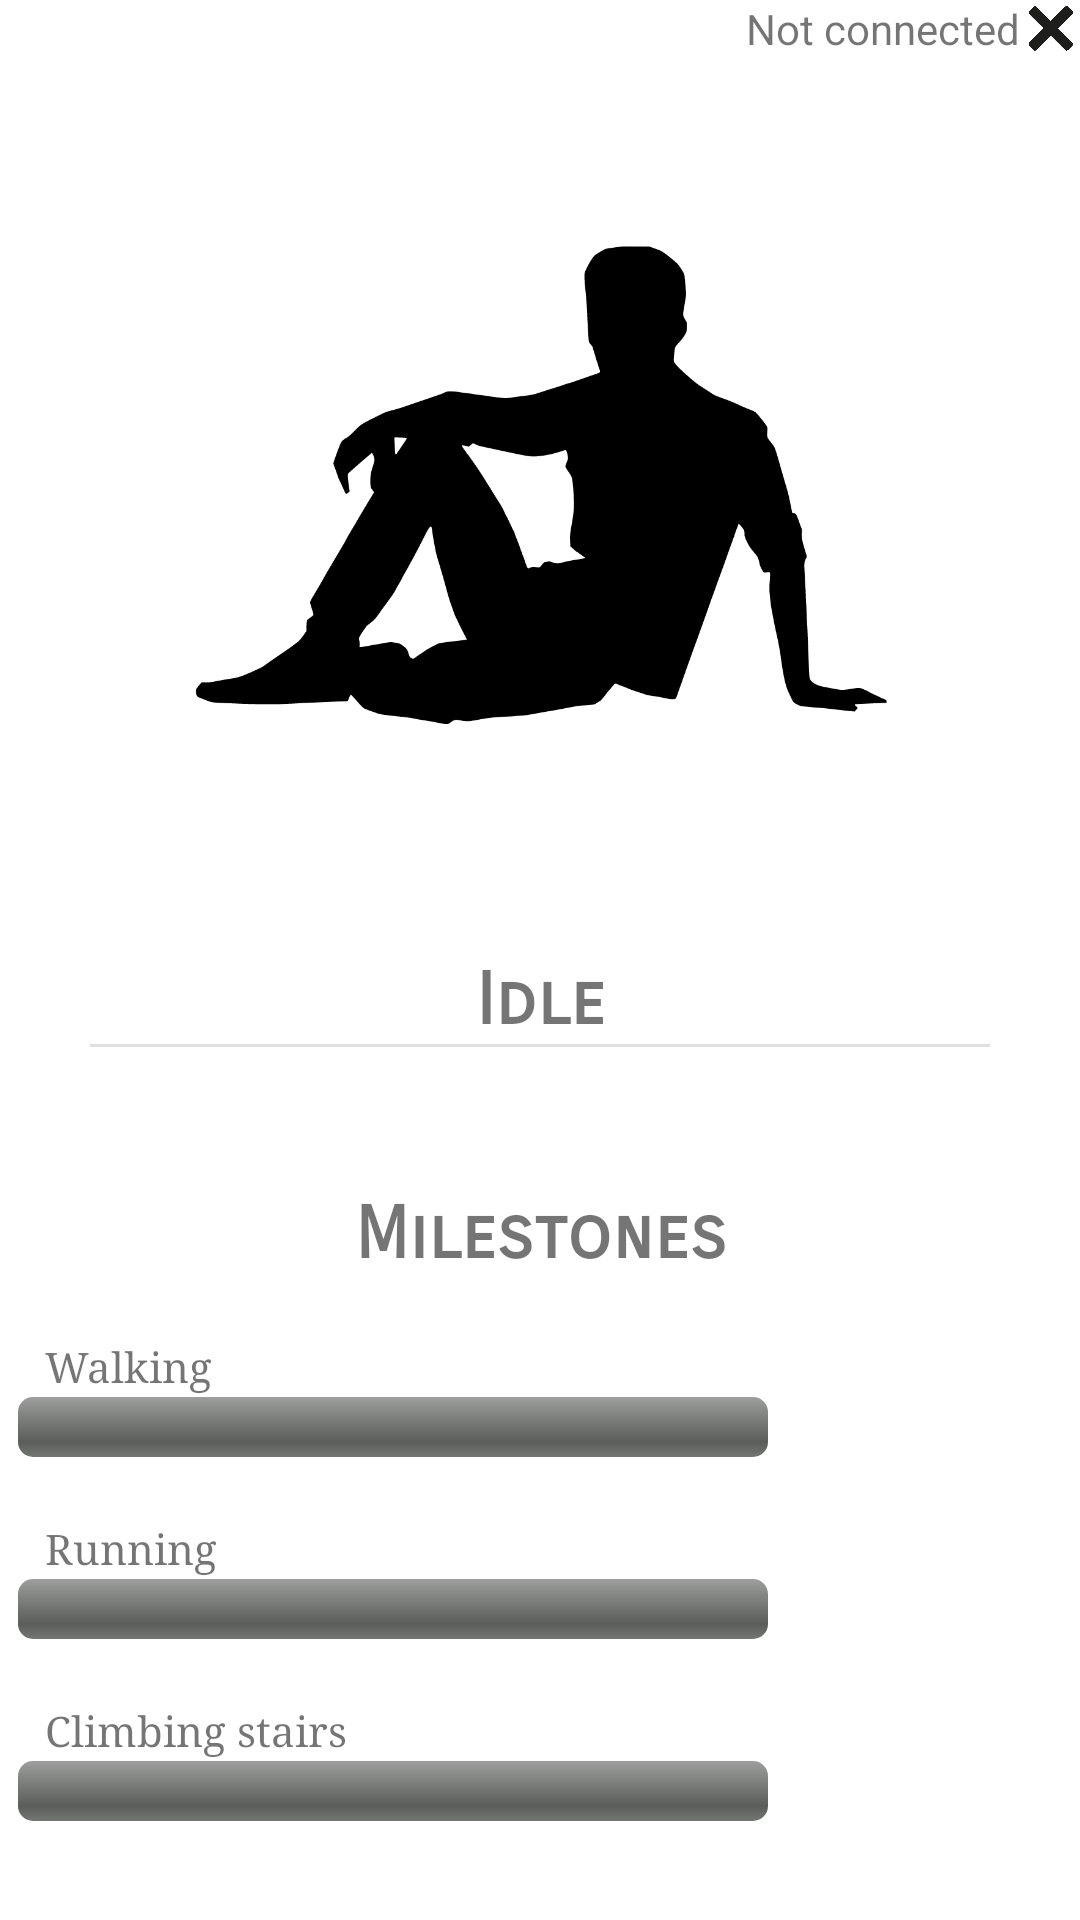

Named icons in this screenshot (1080*1920) and their bounding boxes, region(x1, y1, x2, y2):
cross: region(1029, 6, 1073, 51)
